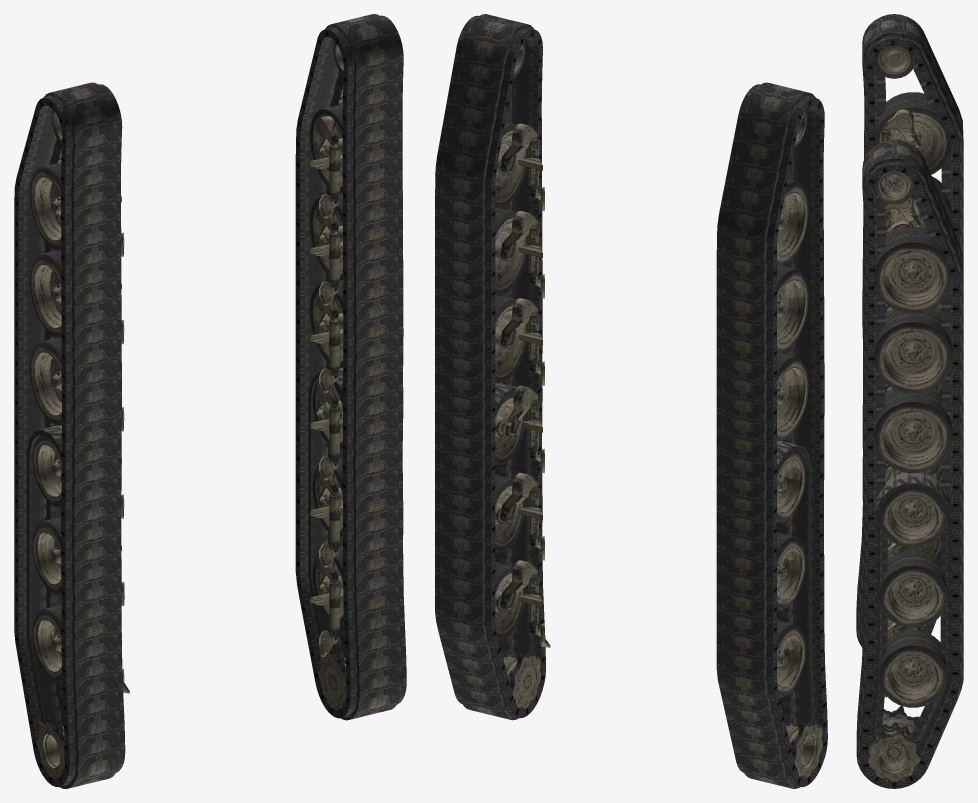
The model's file is Chassis.glb.
3 views of the same model, side by side, from view 1: azimuth 30°, elevation 25°; view 2: azimuth 150°, elevation 25°; view 3: azimuth 270°, elevation 25° (orthographic). The views are drawn at different scales.
Parts seen in each view (by area): view 1: set_0_group_0, set_1_group_0, set_3_group_0, set_2_group_0, set_0_group_1, set_1_group_1; view 2: set_0_group_0, set_1_group_0, set_3_group_0, set_2_group_0, set_0_group_1, set_1_group_1; view 3: set_3_group_0, set_1_group_0, set_0_group_0, set_2_group_0, set_1_group_1.
Boxes of the visible parts, x1=… form: set_0_group_0: x1=14, y1=82, x2=125, y2=788; set_1_group_0: x1=295, y1=14, x2=406, y2=720; set_3_group_0: x1=309, y1=41, x2=346, y2=709; set_2_group_0: x1=29, y1=109, x2=129, y2=778; set_0_group_1: x1=26, y1=425, x2=63, y2=727; set_1_group_1: x1=308, y1=367, x2=345, y2=658; set_0_group_0: x1=716, y1=82, x2=827, y2=788; set_1_group_0: x1=435, y1=14, x2=545, y2=720; set_3_group_0: x1=495, y1=41, x2=550, y2=709; set_2_group_0: x1=777, y1=110, x2=823, y2=777; set_0_group_1: x1=777, y1=441, x2=814, y2=727; set_1_group_1: x1=495, y1=383, x2=532, y2=658; set_3_group_0: x1=868, y1=171, x2=952, y2=781; set_1_group_0: x1=856, y1=139, x2=963, y2=788; set_0_group_0: x1=856, y1=14, x2=963, y2=647; set_2_group_0: x1=873, y1=45, x2=952, y2=637; set_1_group_1: x1=868, y1=469, x2=952, y2=755.
Size of the model in its own units: 3.5 by 6.85 by 1.06.
Materials: 6 (6 with a texture image).
